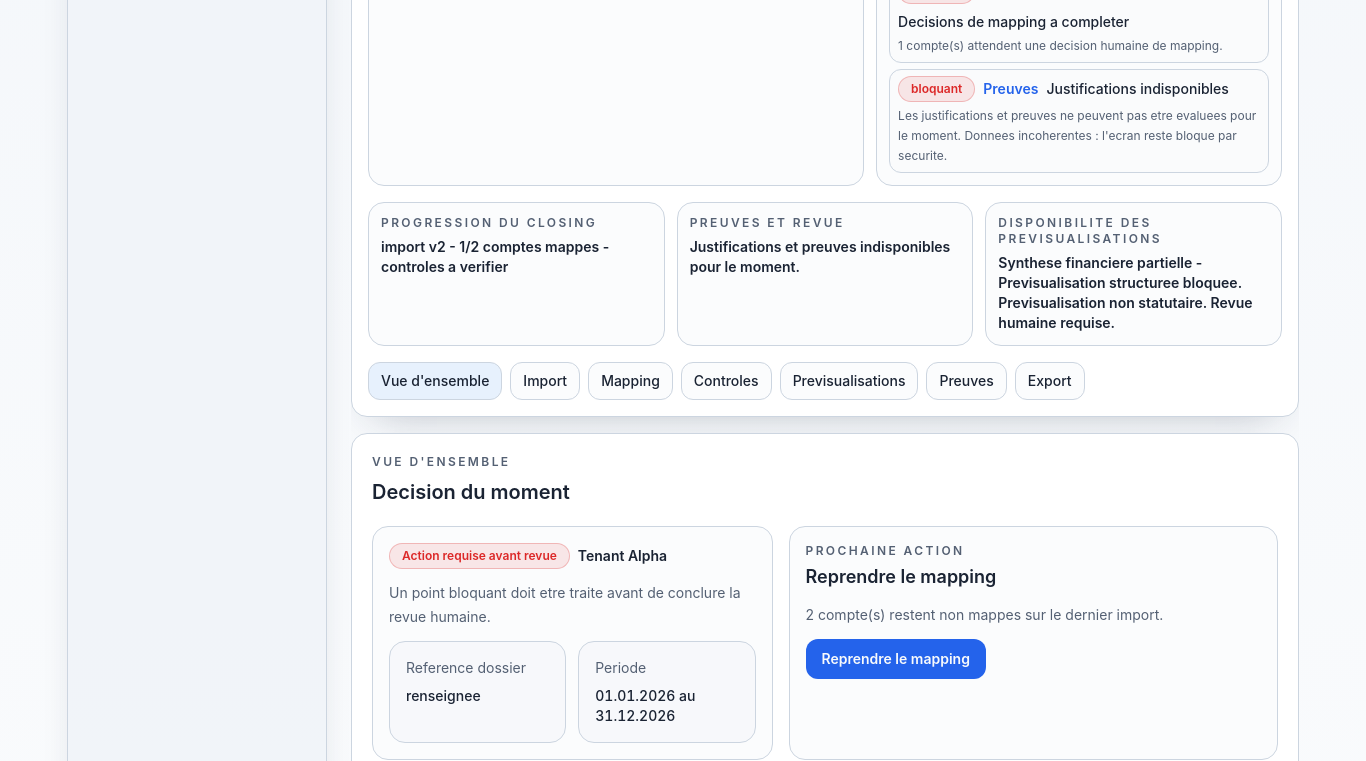
router import balance › renders history error when versions cannot be loaded
(page scrolled)
Click the tab "Import" at (545,381), box [510,362,580,400]
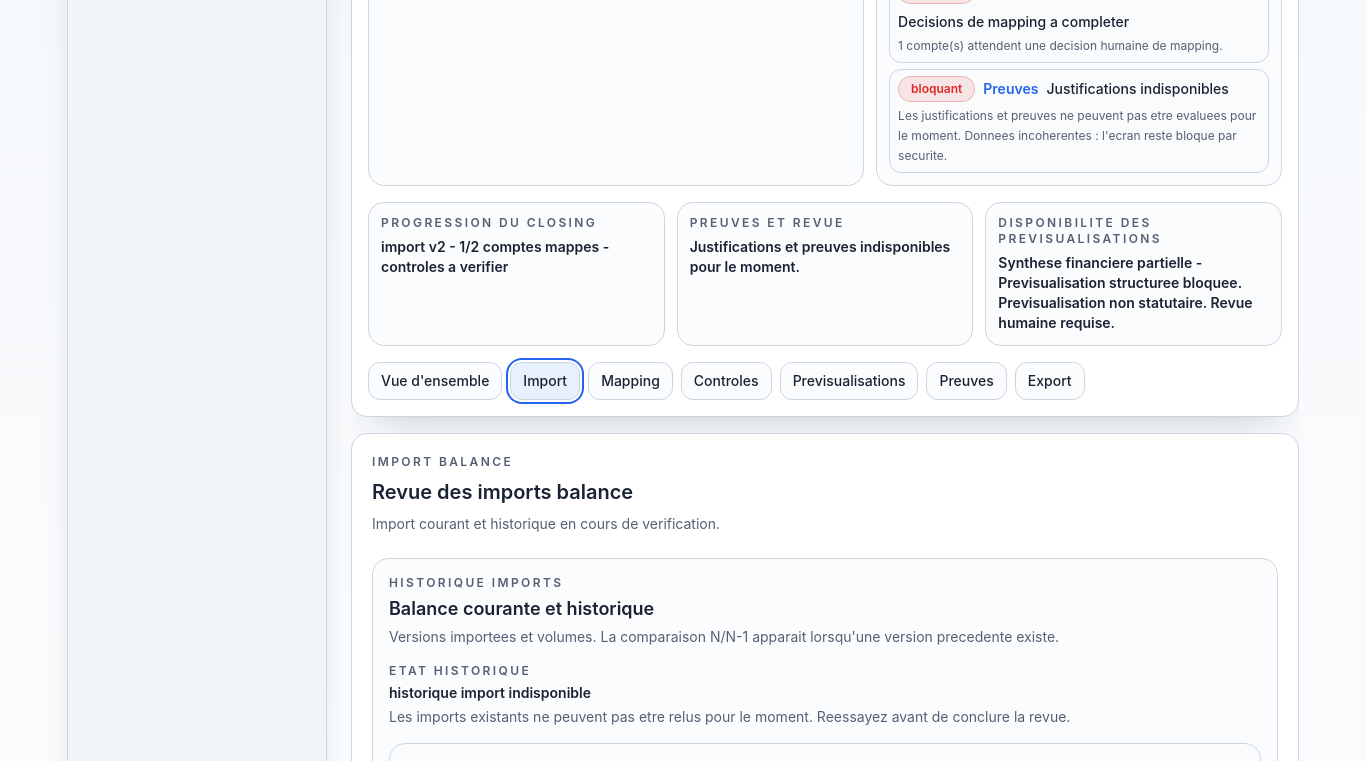
Check: the heading "Revue des imports balance" is shown, box [372,480,633,504]
Check: the text "historique import indisponible" is shown, box [389,684,591,701]
